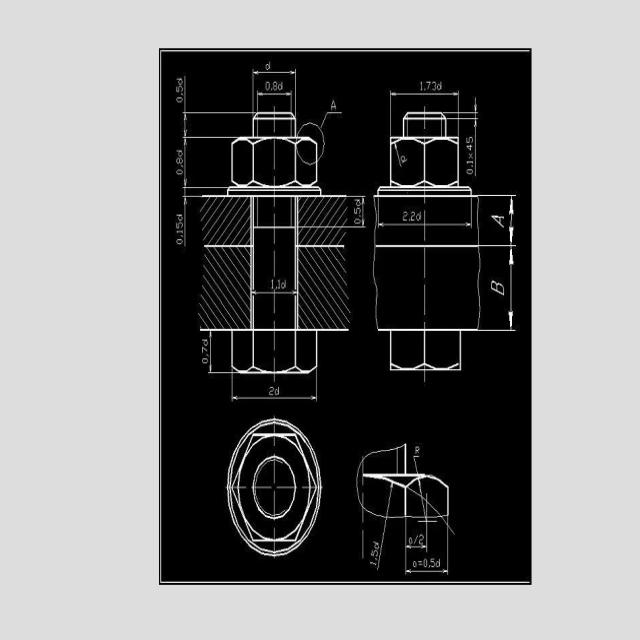marking_line: (481, 245, 517, 332), (378, 198, 473, 228), (185, 77, 253, 115), (231, 373, 317, 402), (183, 136, 229, 188), (479, 194, 517, 248), (389, 90, 460, 111), (182, 113, 237, 139), (459, 98, 477, 175), (404, 548, 450, 574), (182, 196, 201, 248), (209, 332, 231, 374), (252, 69, 296, 90), (405, 517, 428, 553), (256, 89, 293, 111), (347, 195, 366, 227), (385, 483, 393, 516), (252, 290, 297, 295), (394, 143, 402, 168)
numeric: (370, 549, 379, 558), (272, 81, 279, 92), (410, 210, 416, 222), (402, 211, 408, 222), (176, 85, 184, 93), (265, 61, 272, 70), (416, 210, 421, 222), (201, 357, 209, 364), (176, 77, 183, 85), (465, 136, 473, 143), (430, 557, 435, 568), (369, 561, 378, 567), (373, 541, 379, 550), (423, 559, 429, 568), (281, 280, 286, 290), (419, 535, 424, 545), (176, 157, 183, 164), (466, 144, 473, 151), (275, 387, 280, 396), (269, 386, 274, 395), (426, 81, 431, 90), (437, 82, 442, 91), (279, 80, 283, 91), (266, 80, 270, 91), (270, 279, 274, 290), (201, 347, 208, 353), (202, 340, 209, 346), (176, 150, 183, 156), (176, 169, 182, 176), (466, 159, 473, 165), (466, 169, 473, 175), (432, 81, 436, 91), (277, 280, 281, 289), (408, 538, 413, 545), (177, 98, 183, 103), (420, 82, 423, 92)
special_symbol: (468, 152, 474, 160), (181, 165, 184, 169), (181, 93, 184, 97), (470, 165, 474, 168), (408, 218, 411, 222), (206, 354, 209, 357)
